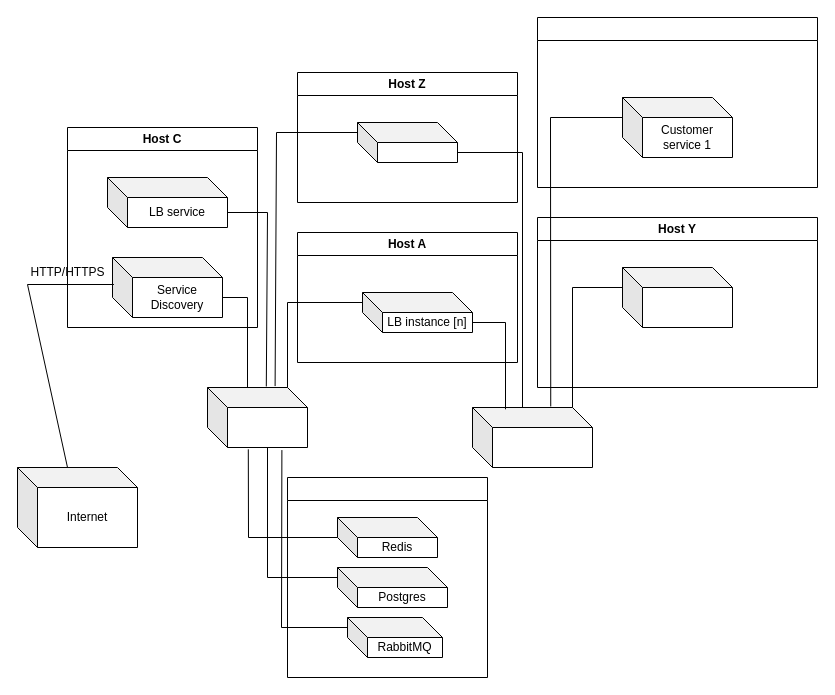
The diagram is 835 pixels wide and 695 high, and some of its shapes have lost their labels. The box of each missing label's shape, as (x1, y1, x2, y2) in pixels:
Customer service [n]: (622, 266, 732, 328)
Customer service internal network: (472, 406, 592, 468)
Host E: (286, 476, 488, 678)
Host X: (536, 16, 818, 188)
LB instance 1: (356, 122, 458, 162)
LB internal network: (206, 386, 308, 448)
